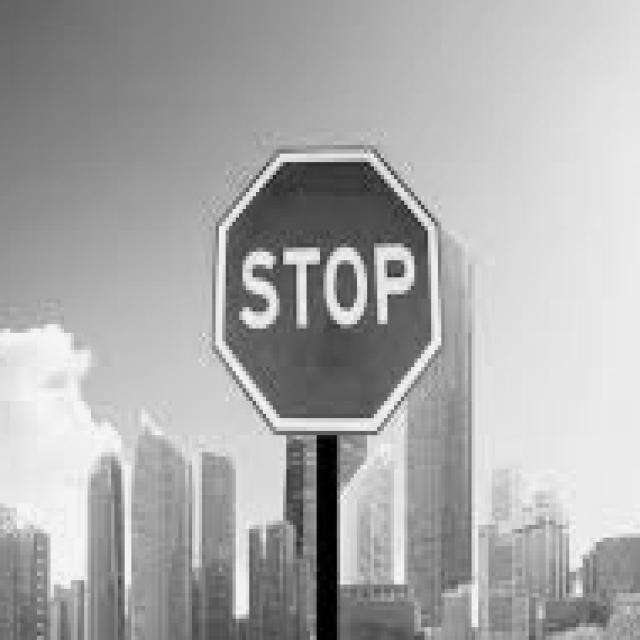Stop-signs: (212, 150, 445, 436)
